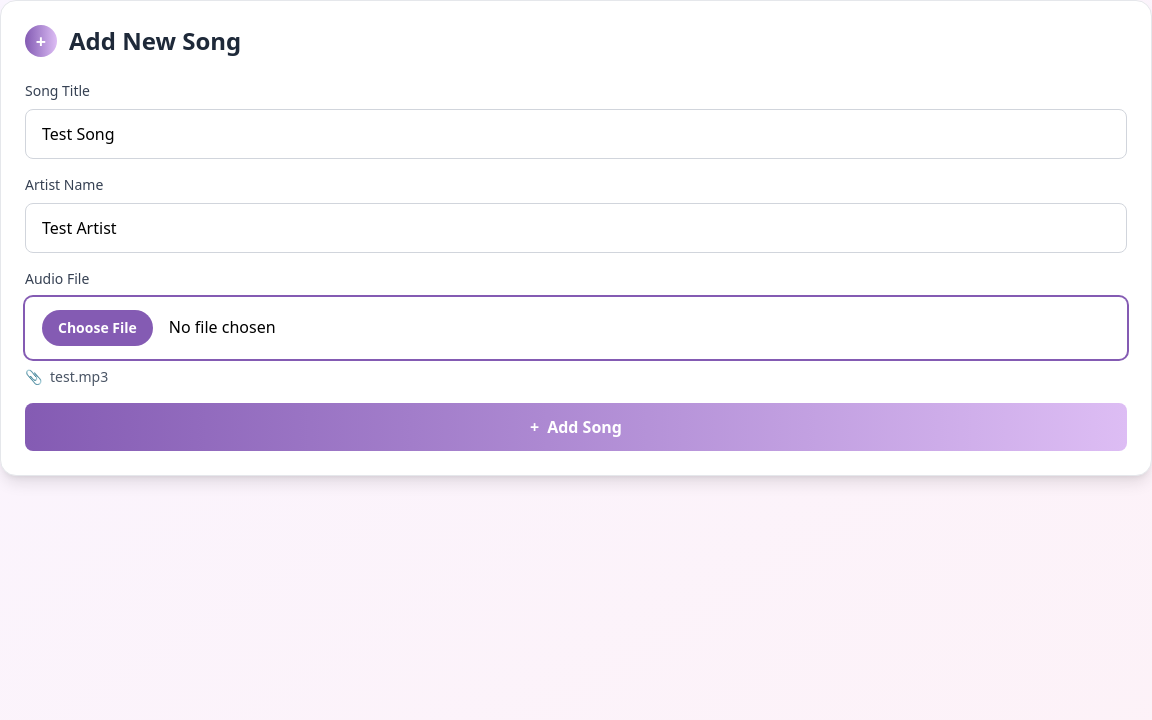
Test: AddSongForm › uploads a song using multipart form data
The width and height of the screenshot is (1152, 720).
Earlier steps of the test are not shown.
Step 1. Click the button "+ Add Song" → (576, 427), box [25, 403, 1127, 451]
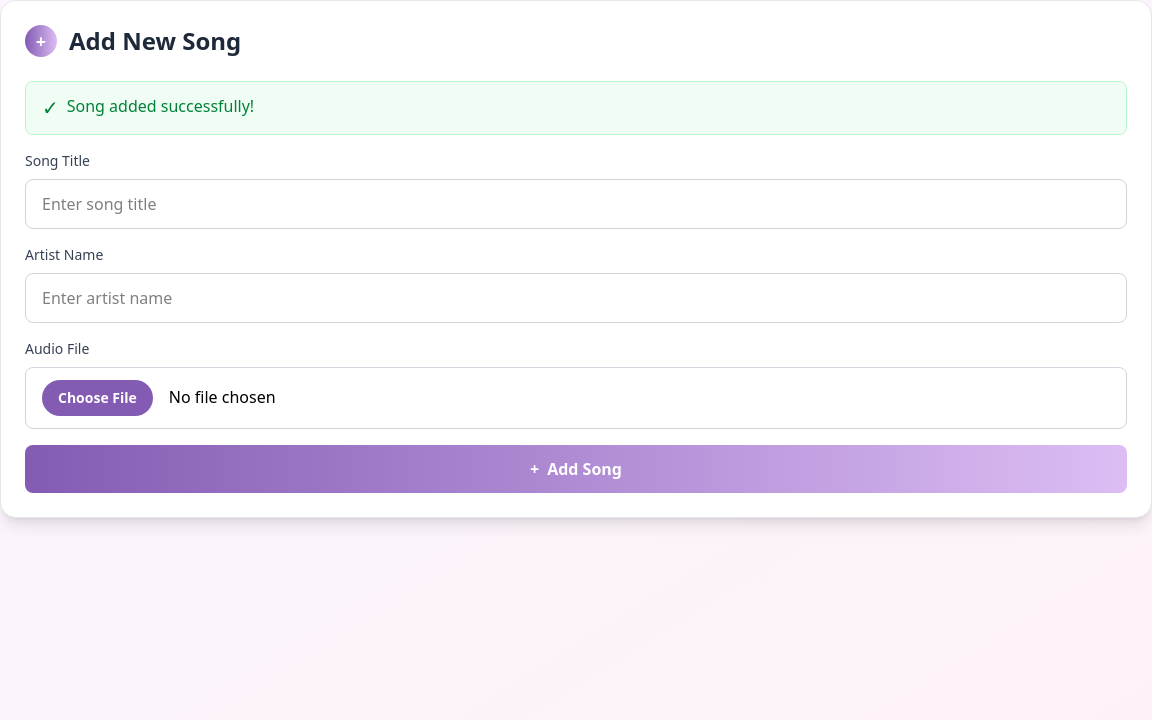
Check: the text "Song added successfully!" is shown, box [67, 94, 254, 118]
